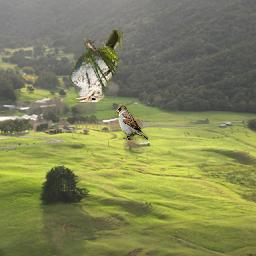Sparrow: (69, 31, 124, 104), (116, 104, 149, 140)
